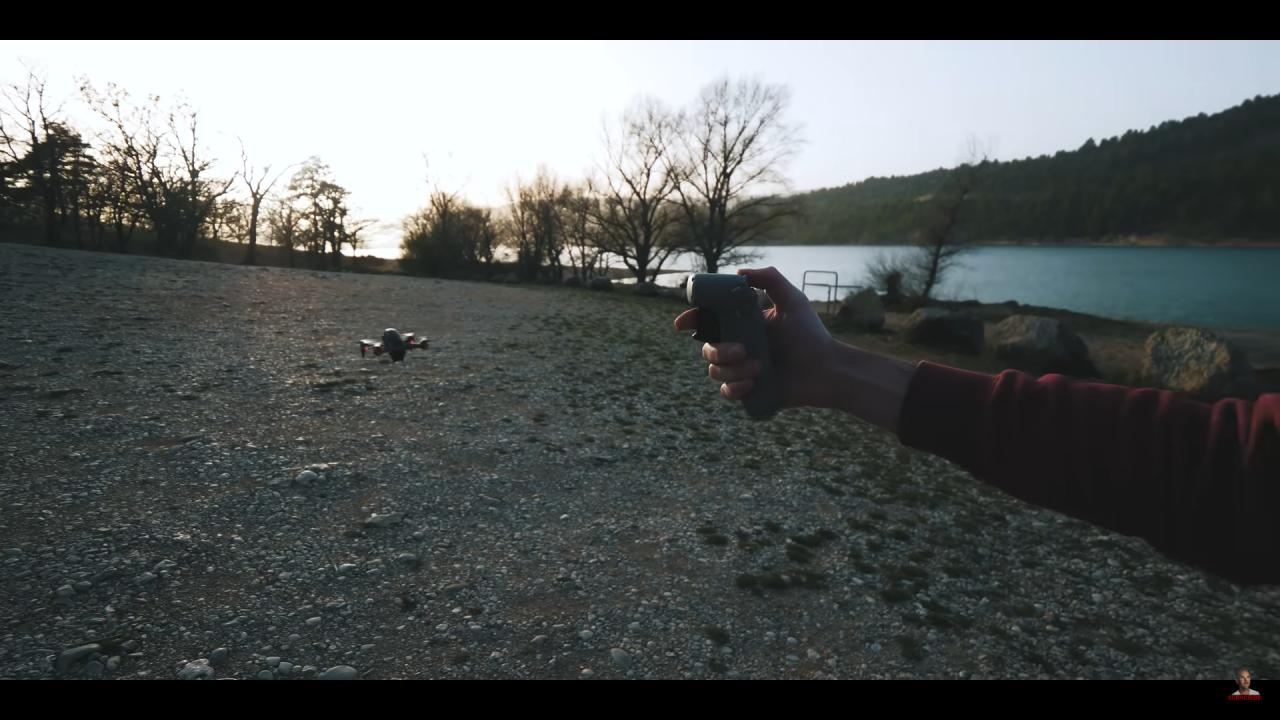Drone: (350, 322, 440, 373)
